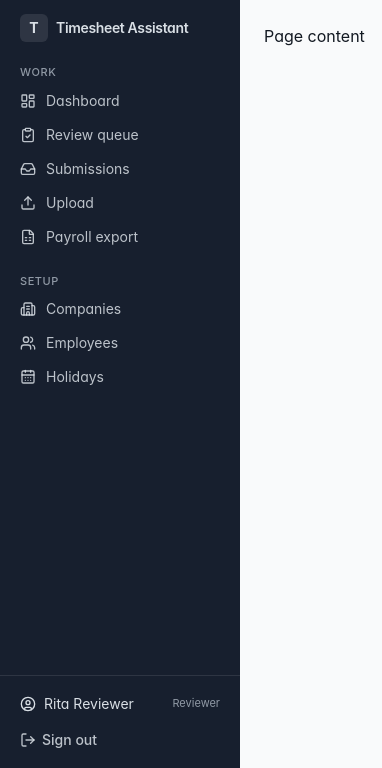
Test: AppShell › ignores a double click while signing out
Double-click the button "Sign out" at (120, 740), box [12,724,228,756]
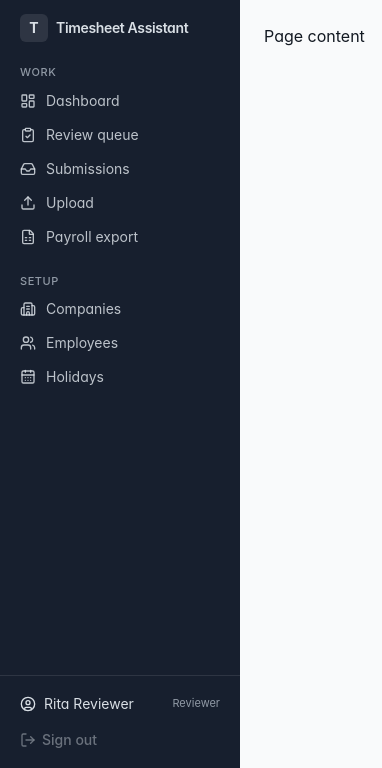
Result: the button "Sign out" is disabled at [12,724,228,756]
